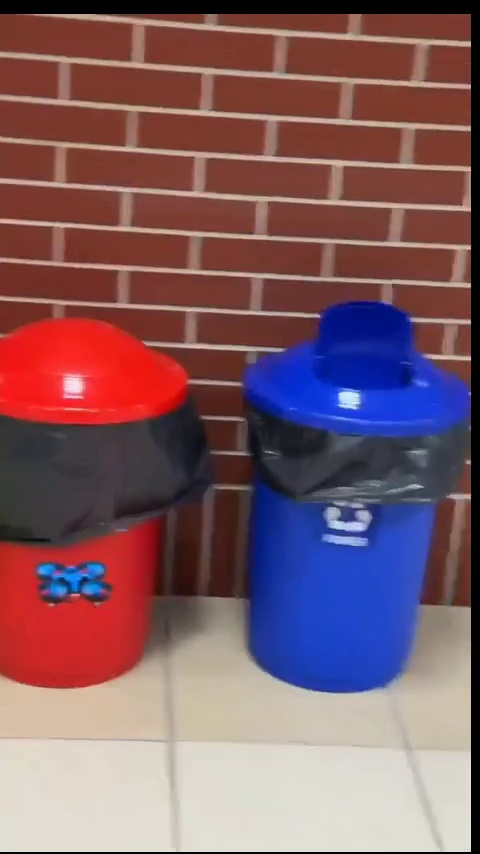drone: (33, 561, 111, 607)
